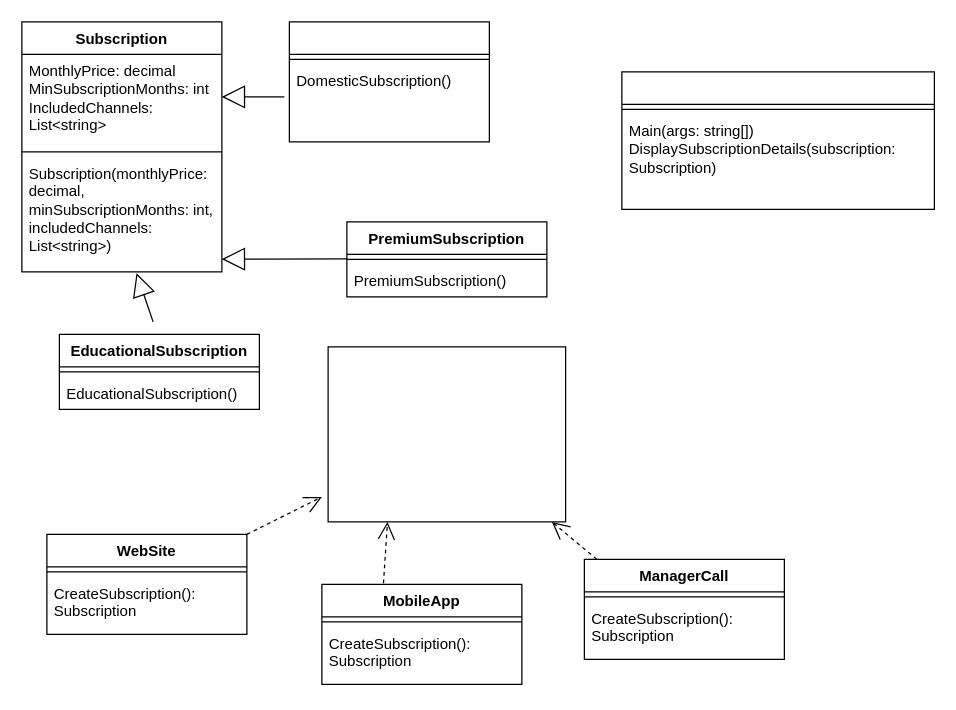
The diagram is 956 pixels wide and 710 high, and some of its shapes have lost their labels. The shapes that lost their labels are listed below. From the top down, each one's box as (x1, y1, x2, y2) in pixels, then its label:
(288, 21, 489, 142): Classname
(621, 71, 934, 209): Program
(327, 346, 566, 522): <<Interface>> ISubscriptionFactory CreateSubscription(): Subscription
